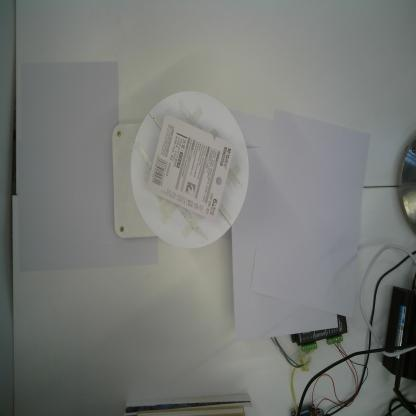Stationery: (146, 114, 235, 221)
